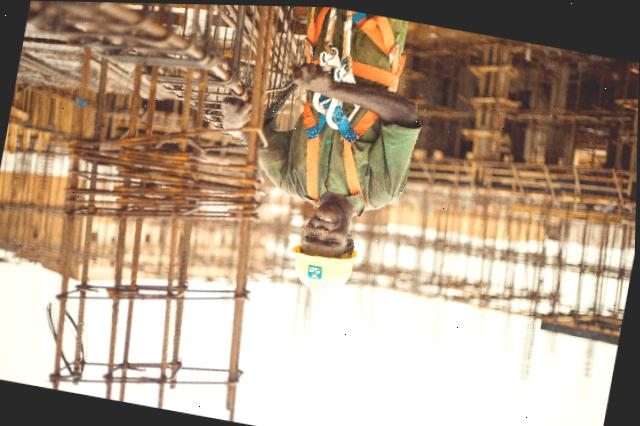helmet: (286, 243, 356, 289)
vest: (268, 5, 425, 225)
